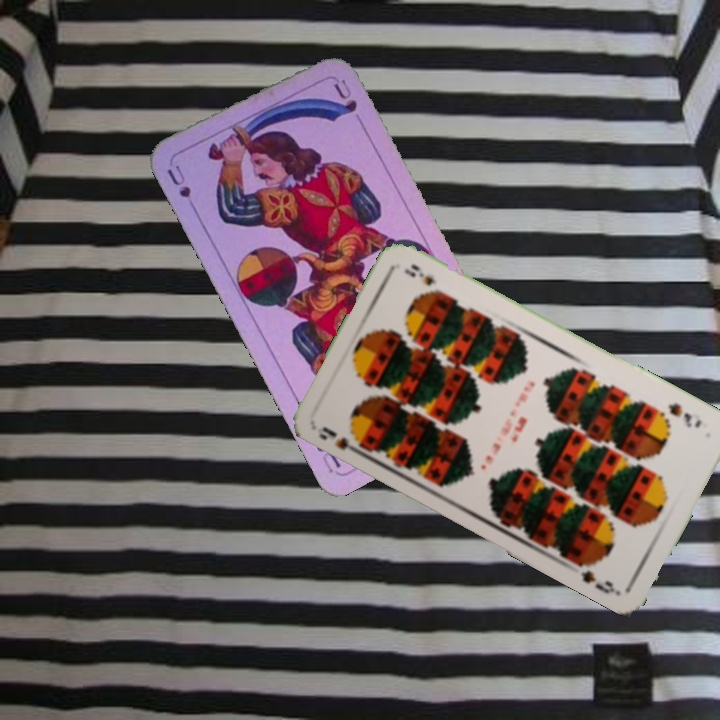S9: (314, 422, 368, 459), (664, 399, 704, 430)
SU: (163, 161, 201, 217)
